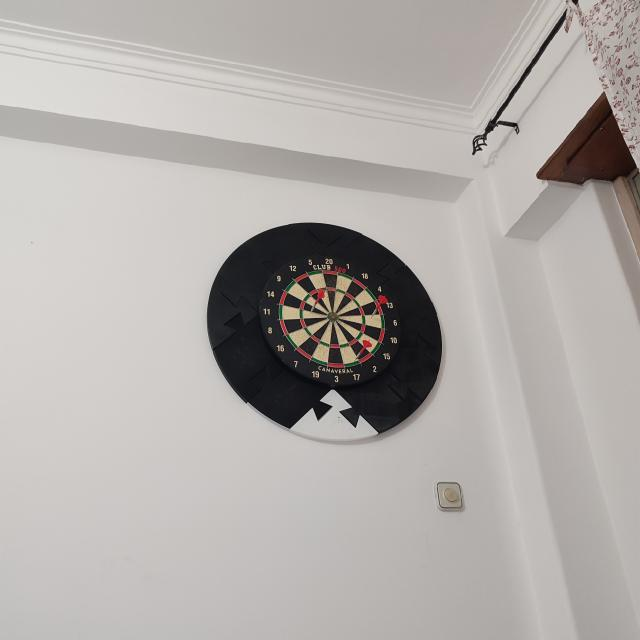dart: (370, 295, 388, 319), (310, 288, 326, 314), (354, 339, 372, 362), (354, 339, 372, 362), (310, 288, 326, 313), (371, 295, 388, 318)
